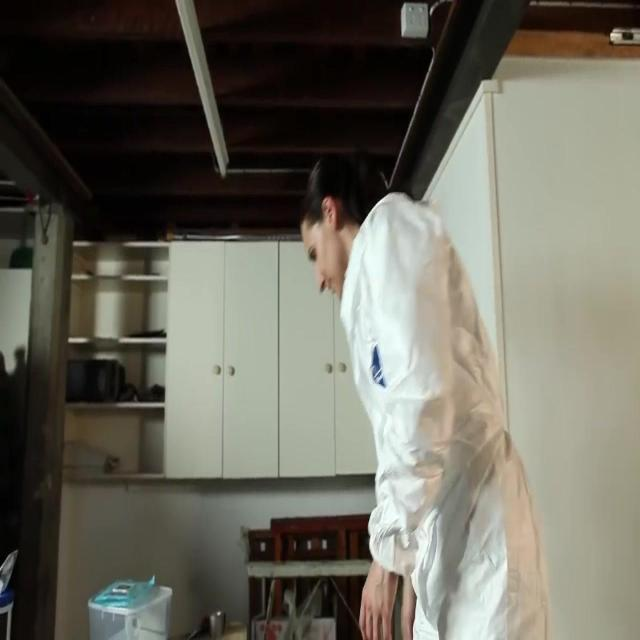Coverall: (333, 209, 553, 640)
